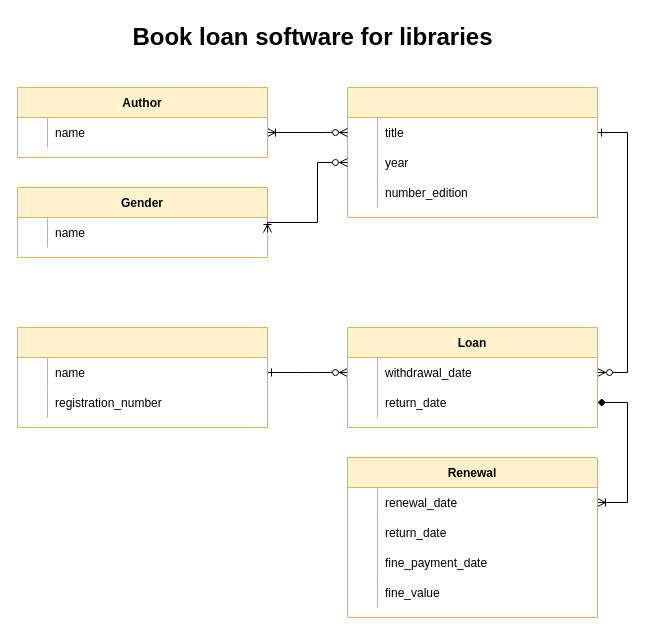
Some shapes in this 654 by 635 pixel diagram are drawn without their labels. Each missing label, with the box of its shape:
Book: (346, 86, 598, 218)
Student: (16, 326, 268, 428)
